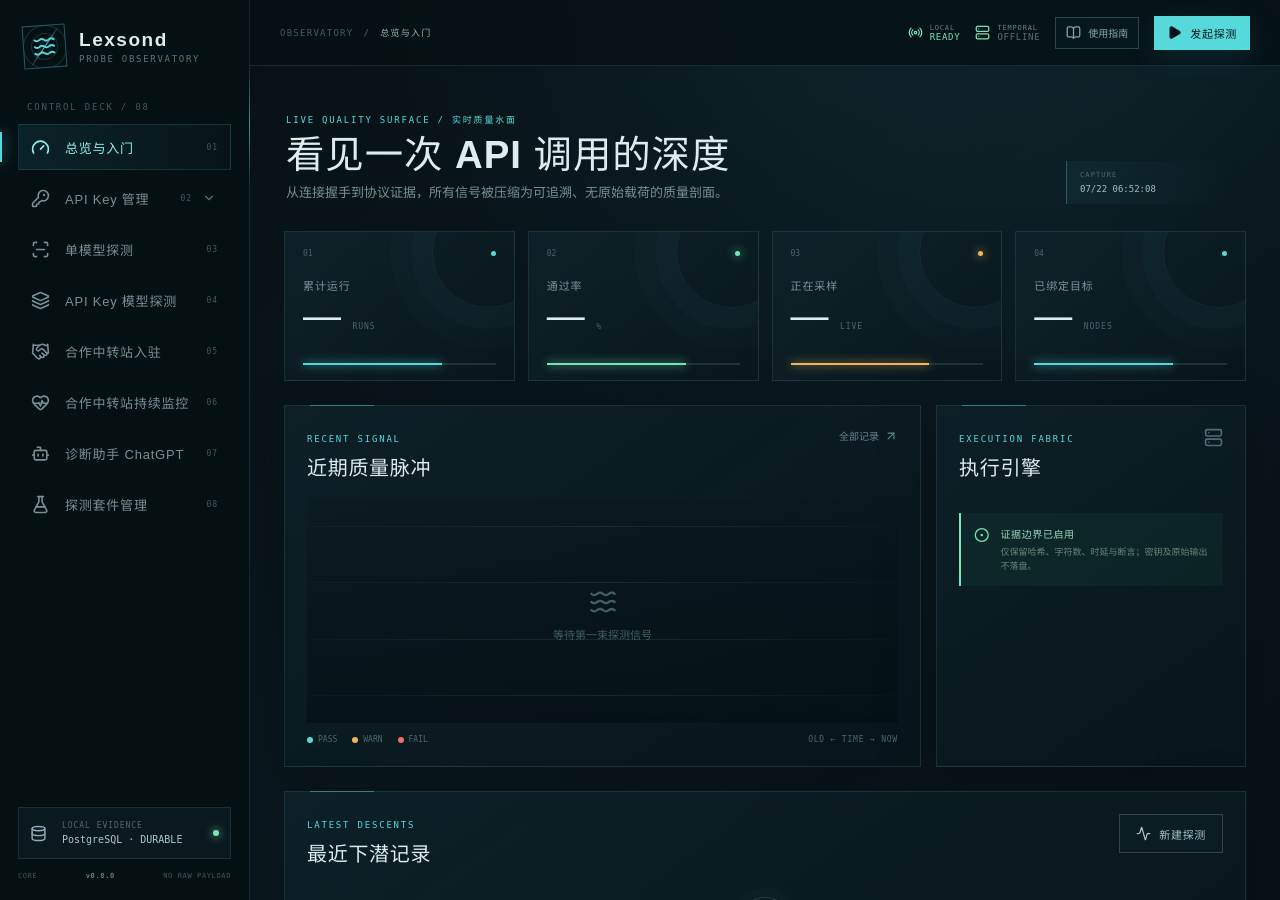
Test: observatory console › opens a plain-language guide from the global navigation
Click the button "使用指南": x=1097, y=32 [1055,16,1139,48]
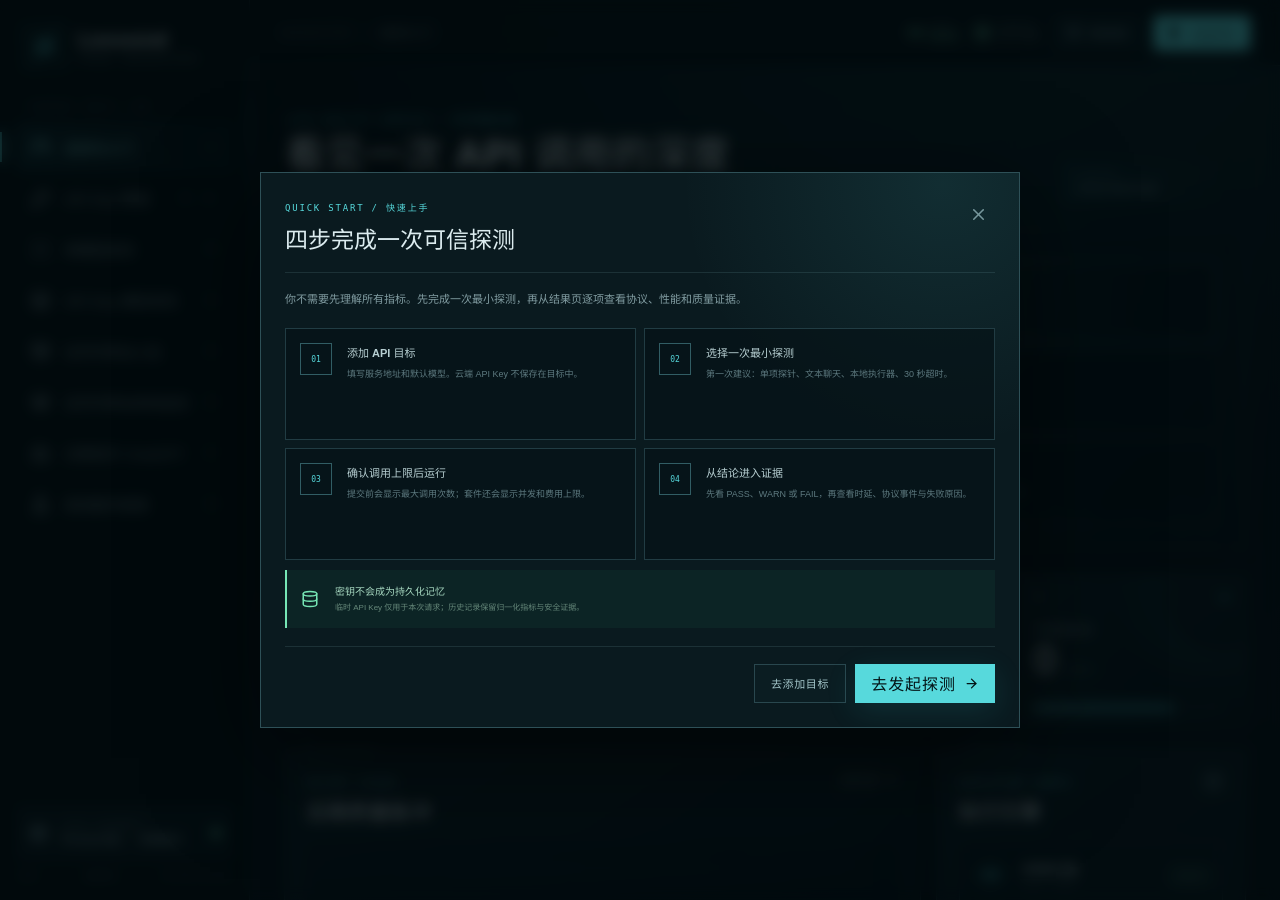
Now the heading "四步完成一次可信探测" is shown, box [285,221,515,255]
Now the text "第一次建议：单项探针、文本聊天、本地执行器、30 秒超时。" is shown, box [706,367,980,382]
